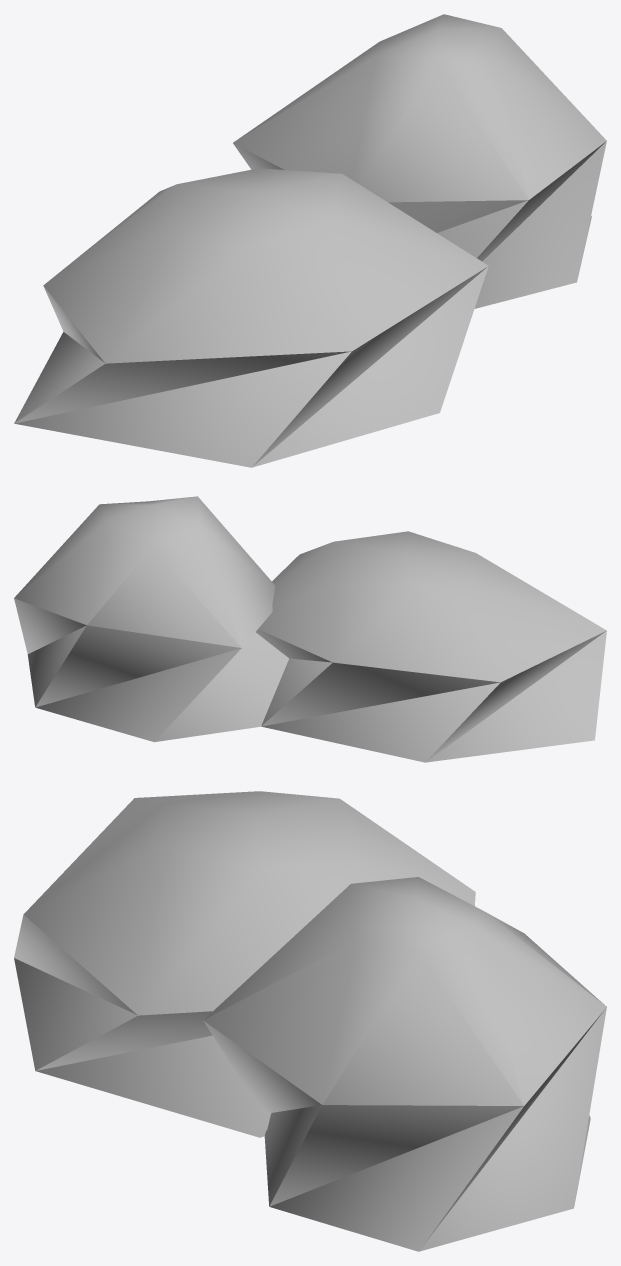
The model's file is item_rm_obsidian_b.obj.
The picture shows the model from 3 angles, top to bottom: view 1: azimuth 30°, elevation 25°; view 2: azimuth 150°, elevation 25°; view 3: azimuth 270°, elevation 25°; orthographic projection. The views are drawn at different scales.
Visible parts, largest first — view 1: source_component_000, source_component_001; view 2: source_component_000, source_component_001; view 3: source_component_001, source_component_000.
Boxes of the visible parts, <box> form: source_component_000: <box>14,168,488,467</box>; source_component_001: <box>233,14,606,308</box>; source_component_000: <box>256,531,606,762</box>; source_component_001: <box>14,496,288,742</box>; source_component_001: <box>203,877,606,1251</box>; source_component_000: <box>14,791,475,1137</box>.
Size of the model in its own units: 0.8609 by 0.286 by 0.5828.
